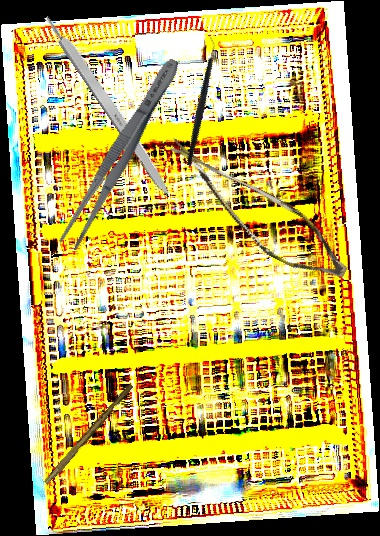Chopper: (144, 35, 255, 167)
Dressing Forceps: (55, 53, 187, 253)
Micro Scissor: (143, 137, 366, 289)
Scalpel Handle: (42, 11, 177, 200), (43, 381, 135, 488)
